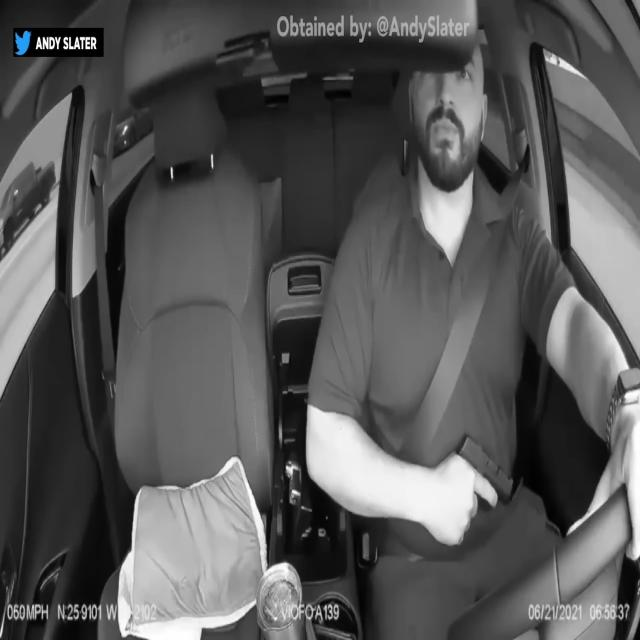senjata_api: (456, 428, 514, 508)
